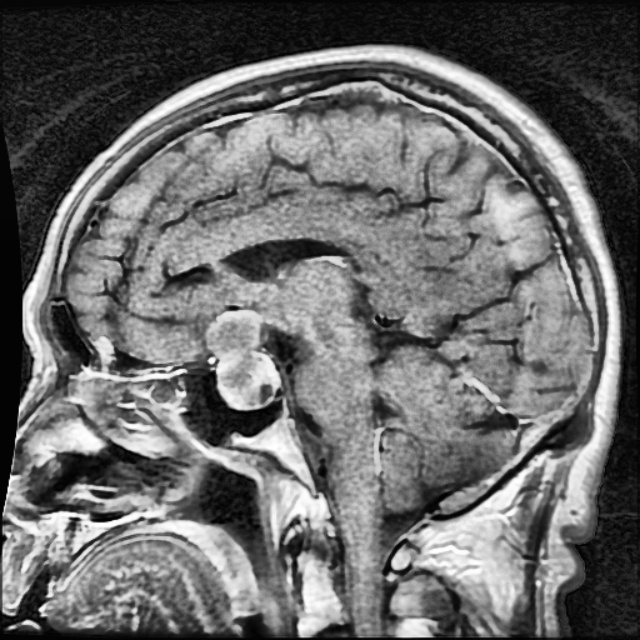Pituitary: (204, 309, 282, 409)
